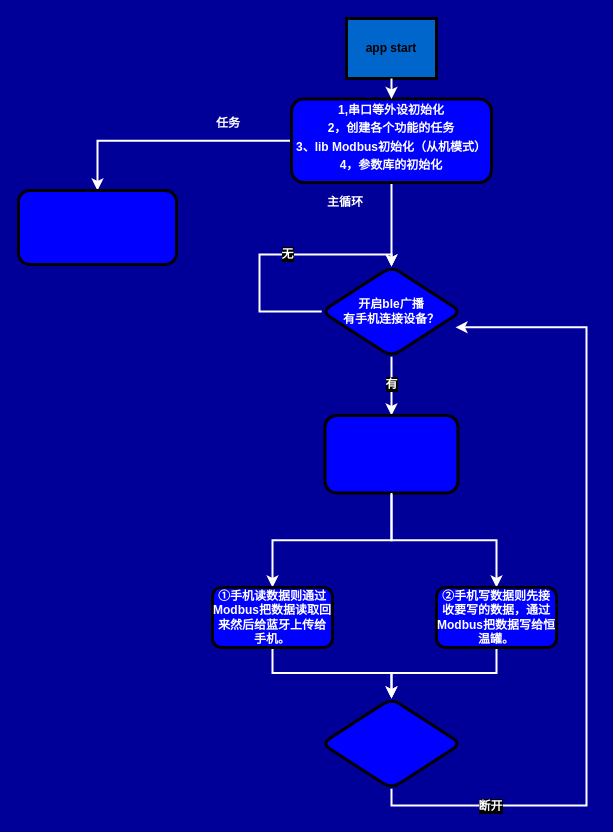
Some shapes in this 613 by 832 pixel diagram are drawn without their labels. The shapes that lost their labels are listed below. From the top down, each one's centre as x and y in pixels, then its label:
At [97,227]: "系统上电后一直通过Modbus读取恒温罐的4g的IMEI号和CCID号 ，读到后修改ble广播名称，关闭任务。".
At [391,454]: "手机对哪个uuid读/写 操作，获取这个uuid对应的Modbus寄存器地址和数据长度。".
At [391,743]: "手机断开蓝牙连接？".
